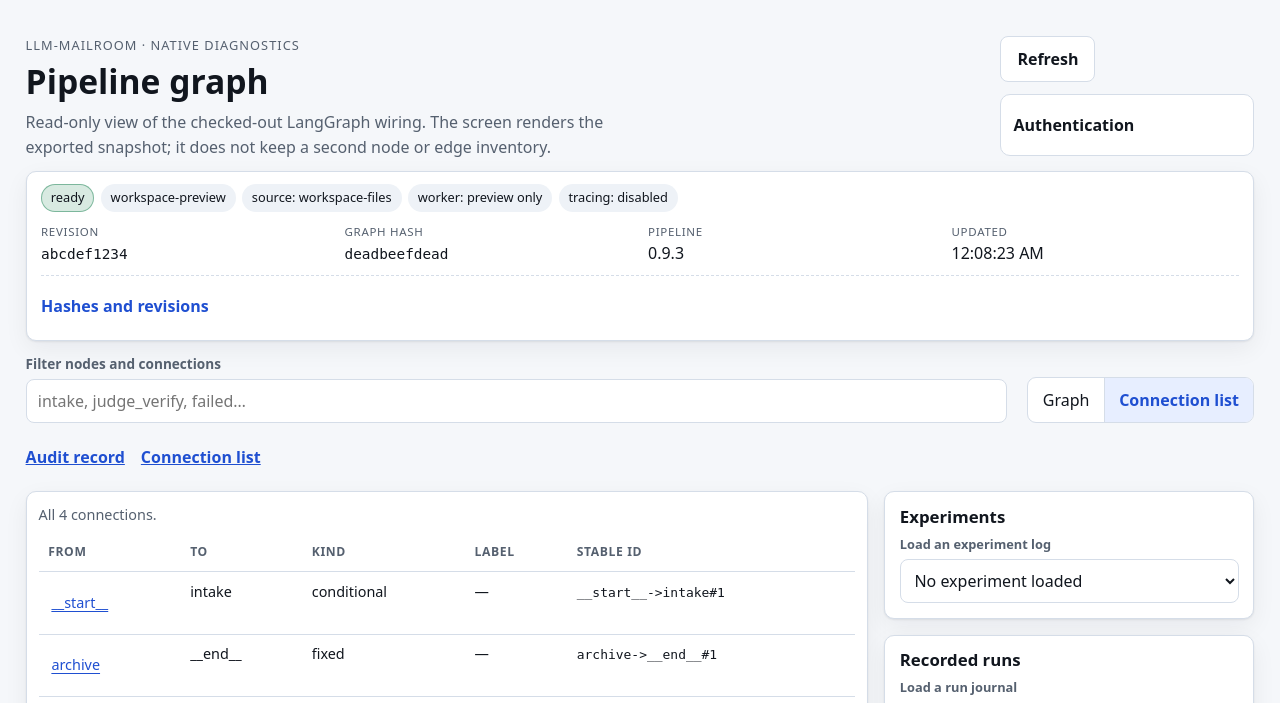
Test: App › filters the connection list and preserves the caption count
Check: the text "All 4 connections." is shown, box 39,505 -> 157,524
Type "archive" into the search field labelled "Filter nodes and connections" at x=516, y=401, box 26,379 -> 1007,423
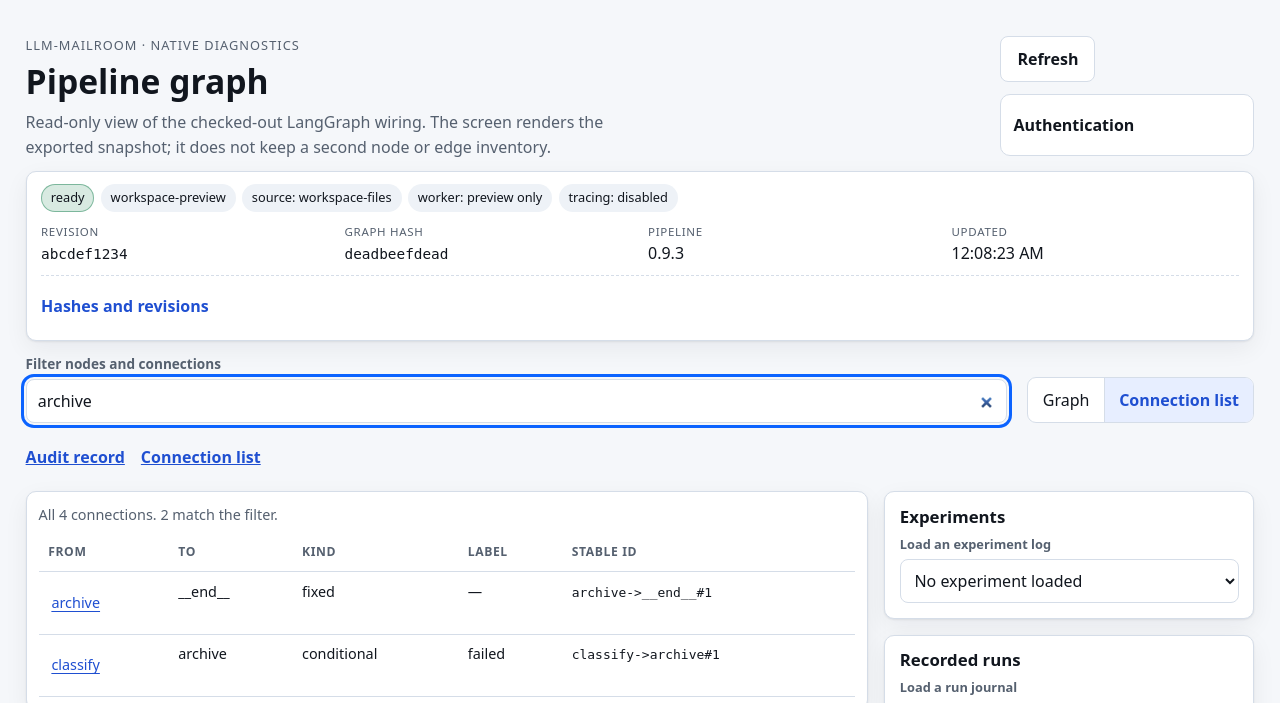
Check: the text "All 4 connections. 2 match the filter." is shown, box 39,505 -> 278,524
